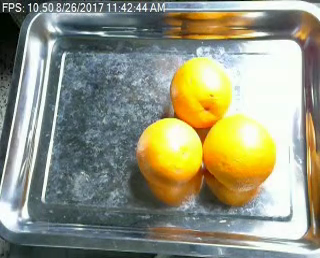Orange: (203, 115, 278, 189), (134, 116, 202, 184), (169, 56, 233, 126)
